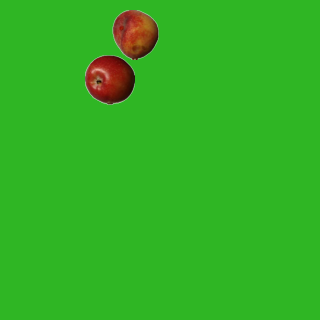Apple Braeburn: (84, 54, 134, 104)
Peach: (110, 9, 160, 59)
